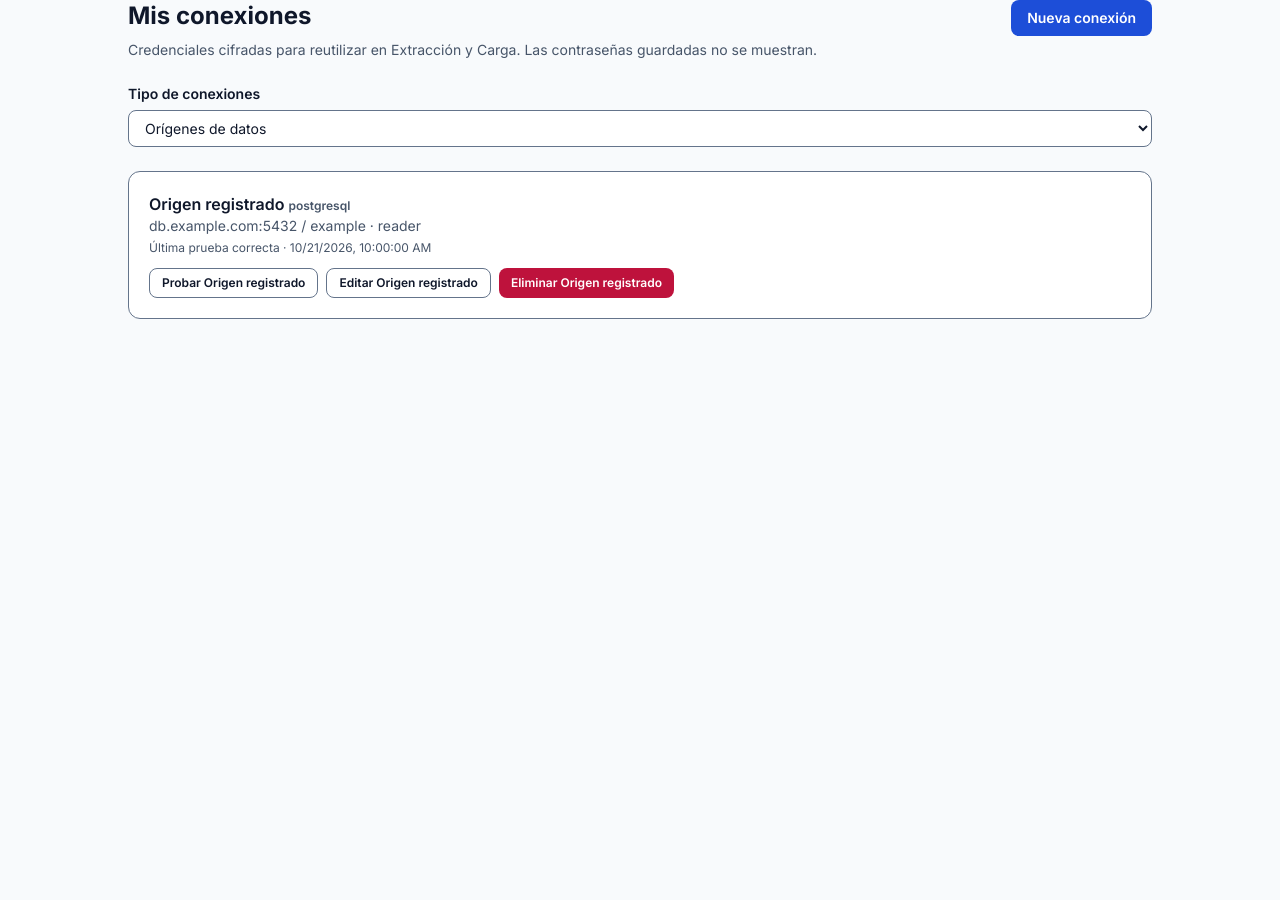
Test: saved connections and account boundaries › confirms deletion and keeps secrets out of the connection list
Click the button "Eliminar Origen registrado" at coordinates (586, 283), box [499,268,674,298]
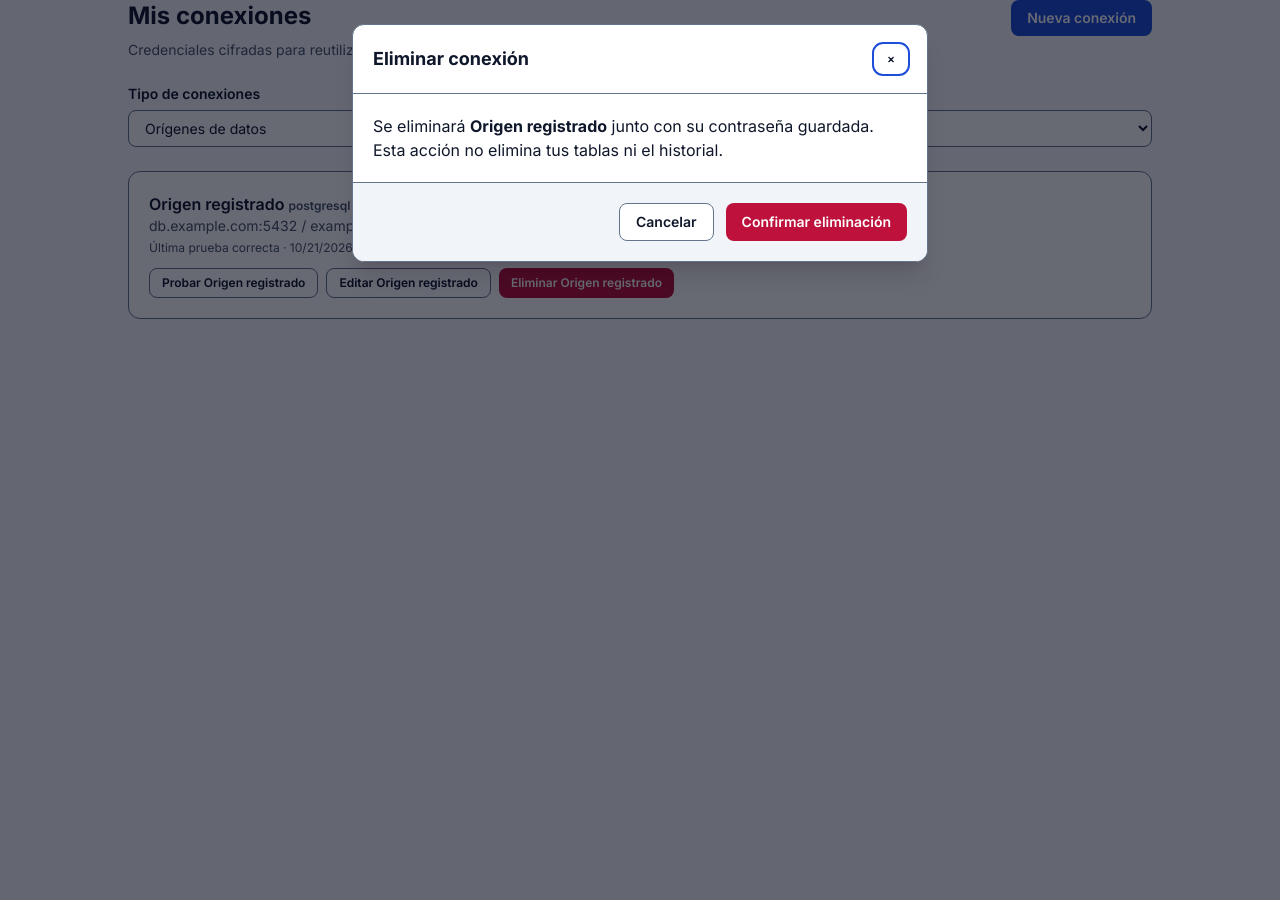
Click the button "Confirmar eliminación" at coordinates (816, 222), box [726,203,907,241]
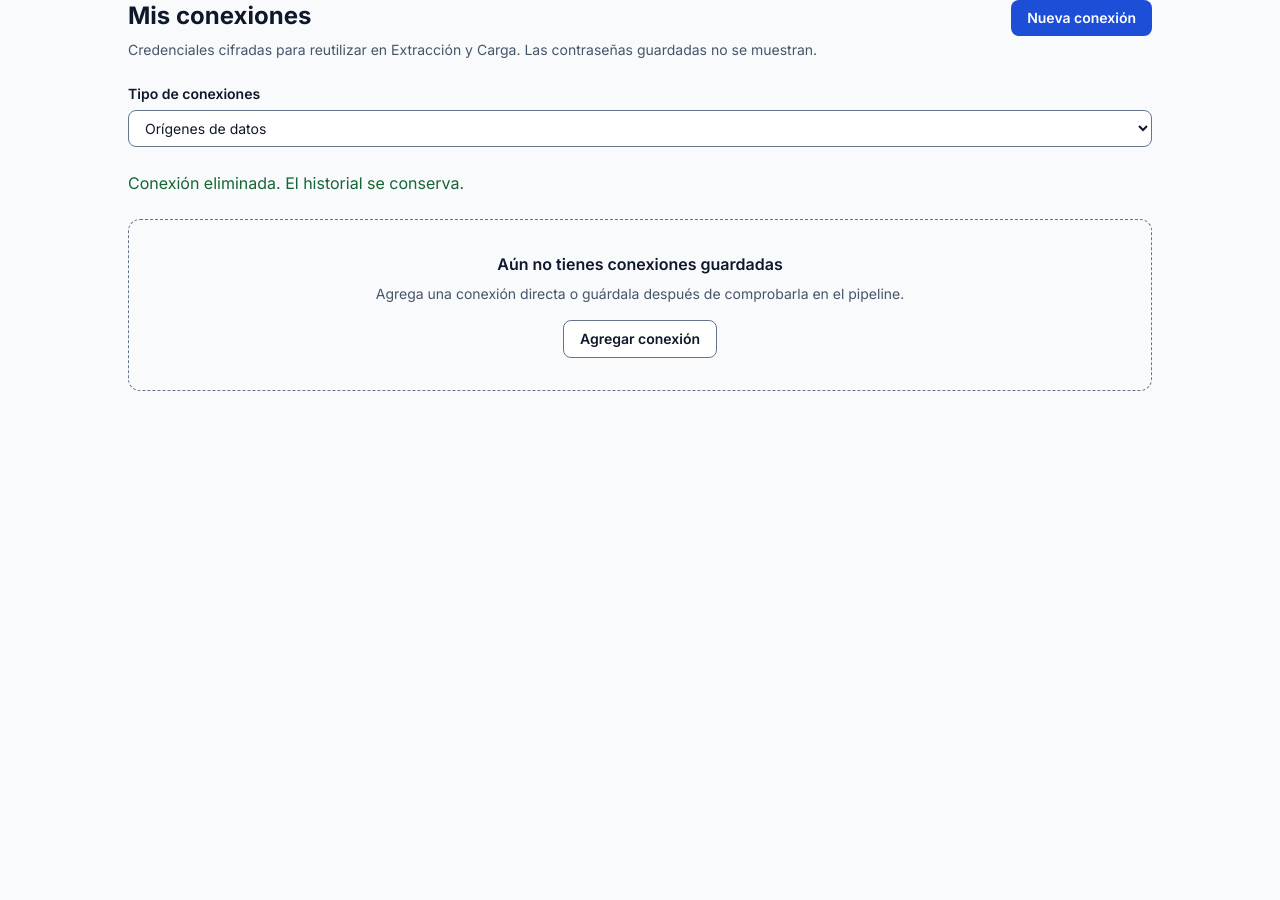
Expected: the text "Conexión eliminada. El historial se conserva." is shown, [128,173,464,193]
